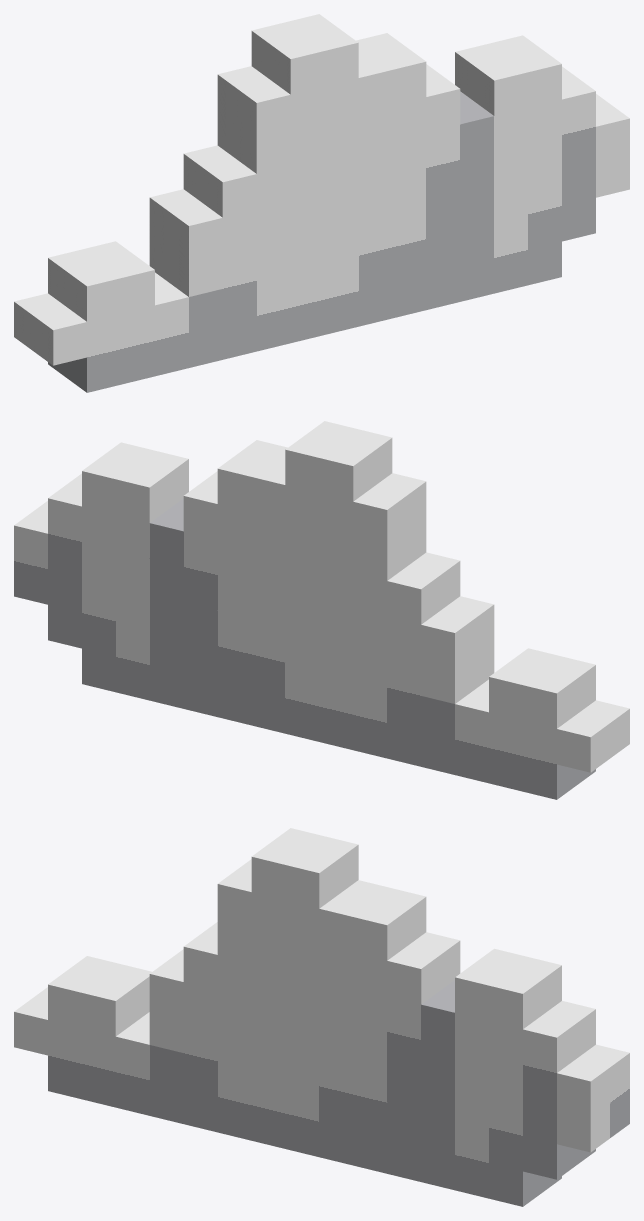
Rendered from cloud.gltf.
3 renders of one model, top to bottom at view 1: azimuth 30°, elevation 25°; view 2: azimuth 150°, elevation 25°; view 3: azimuth 330°, elevation 25°, orthographic.
Parts seen in each view (by area): view 1: cloud-Local; view 2: cloud-Local; view 3: cloud-Local.
Boxes of the visible parts, x1,y1,x2,y2 form: cloud-Local: [14, 14, 629, 392]; cloud-Local: [14, 421, 629, 799]; cloud-Local: [14, 828, 629, 1206].
Size of the model in its own units: 17 by 8 by 2.
Materials: 1 (1 with a texture image).
